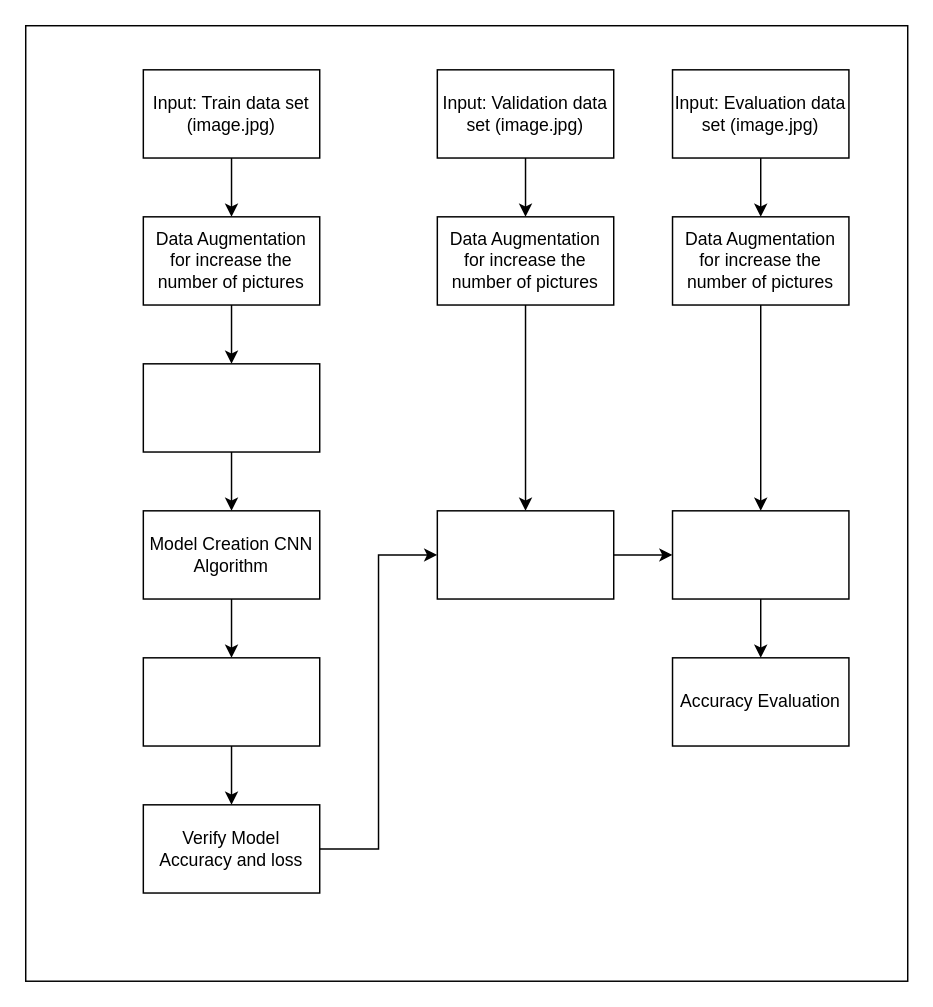
Image size: 933x1007. Some labels were removed from this diagram. The shapes that lost their labels are listed below. From the top down, each one's centre as x and y in pixels, then its label:
the point at 231,407: Feature Classify label of image (explosive , none-explosive)
the point at 525,554: Classifier Model for Validation Accuracy
the point at 760,554: Classifier Model for Predict Unseen Data Set
the point at 231,701: Model Training CNN Algorithm
